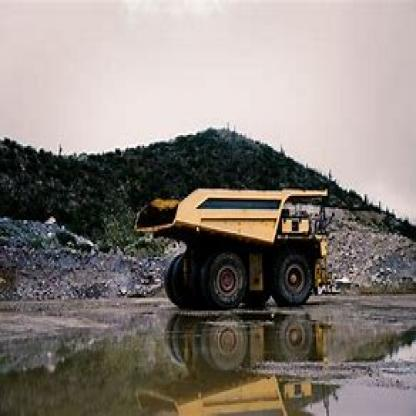bull_dozer/loader/grader: (130, 178, 332, 310)
